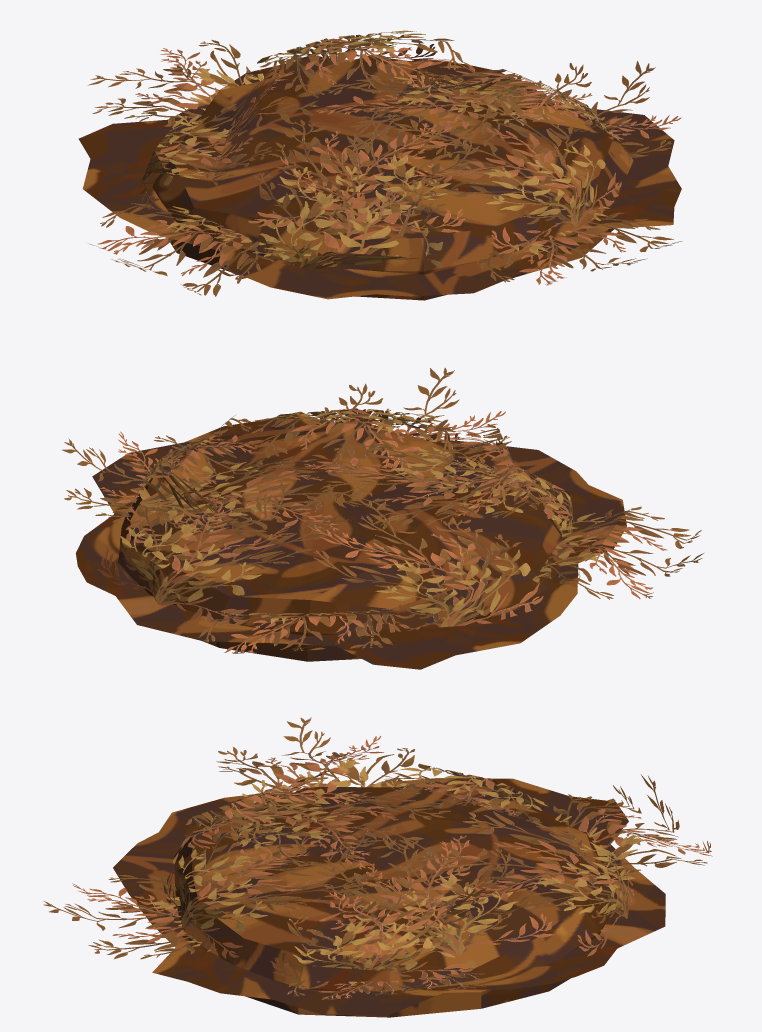
Rendered from Bush_small_archived2.fbx.
3 views of the same model, one above another, from view 1: azimuth 30°, elevation 25°; view 2: azimuth 150°, elevation 25°; view 3: azimuth 270°, elevation 25° (orthographic). The views are drawn at different scales.
Visible parts, largest first — view 1: Cube, Plane; view 2: Cube, Plane; view 3: Cube, Plane.
Boxes of the visible parts, x1,y1,x2,y2 form: Cube: (78,56,681,300); Plane: (87,30,682,296); Cube: (76,411,626,669); Plane: (62,368,703,653); Cube: (113,778,665,1017); Plane: (43,717,712,999).
Bounding box in the file's own units: 5.59 × 0.9519 × 5.58.
